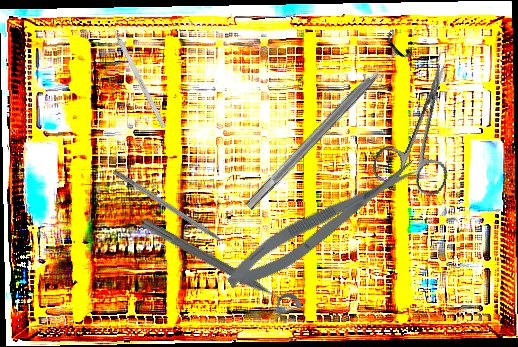Fixation Ring: (235, 30, 415, 220), (133, 213, 305, 327)
Hook Surgical: (112, 168, 243, 257), (106, 18, 167, 129)
Iris Scissors: (369, 54, 480, 200)
Micro Scissor: (219, 153, 426, 298)
